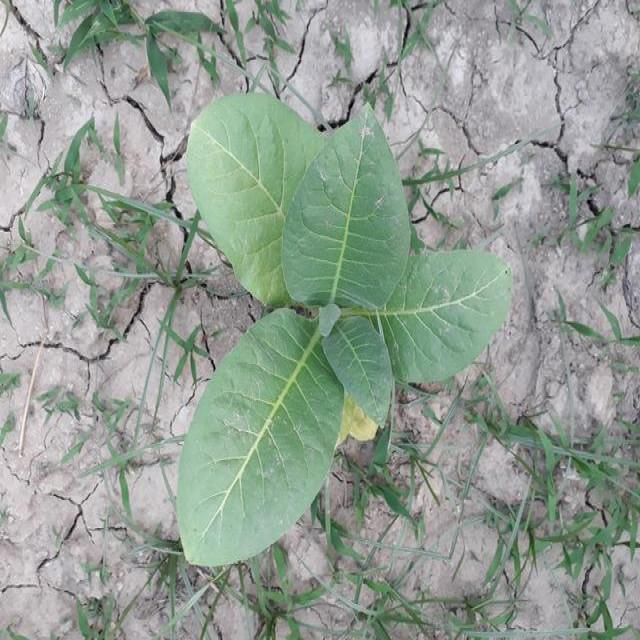crop: (178, 80, 506, 563)
